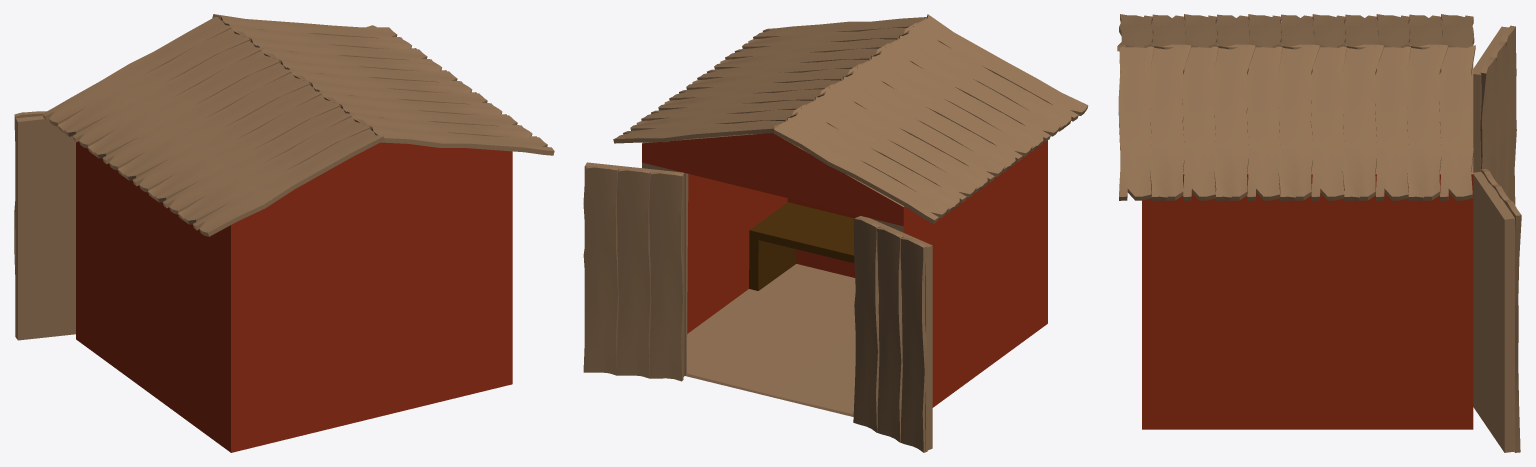
The model's file is GalpaodeFerramentas.fbx.
The picture shows the model from 3 angles, left to right: view 1: azimuth 30°, elevation 25°; view 2: azimuth 150°, elevation 25°; view 3: azimuth 270°, elevation 25°; orthographic projection. The views are drawn at different scales.
Parts seen in each view (by area): view 1: Cube; view 2: Cube; view 3: Cube.
Part boxes in pixels (x1,y1,x2,y2): Cube: (14, 14, 554, 452); Cube: (583, 14, 1088, 452); Cube: (1117, 14, 1521, 452).
Bounding box in the file's own units: 1031 × 777 × 913.
